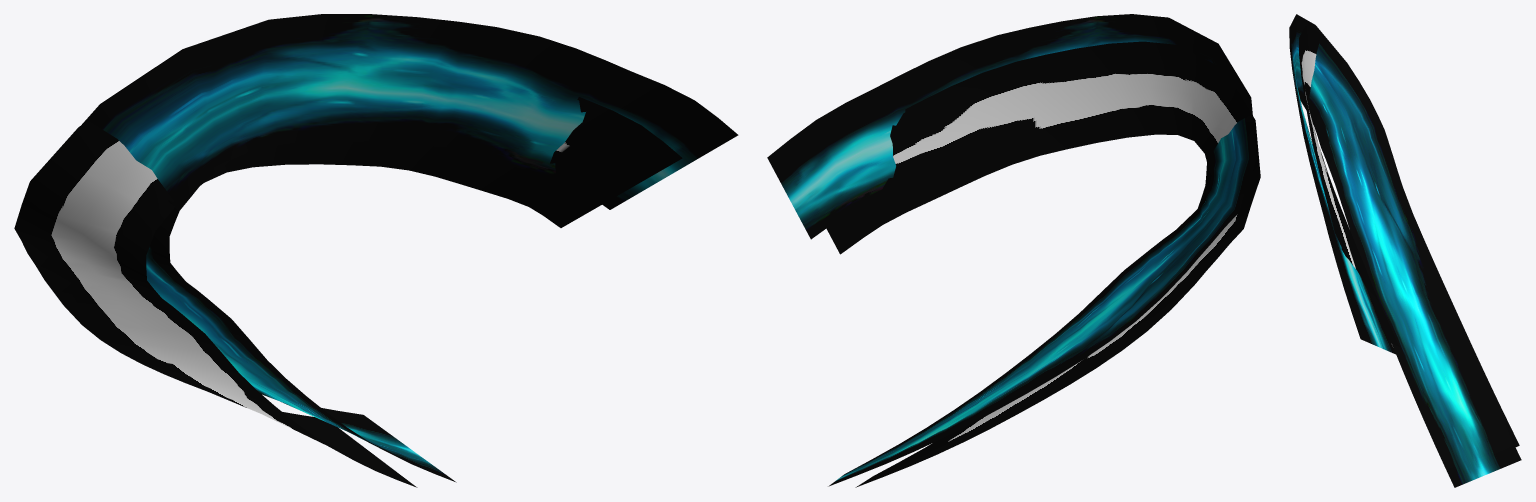
The model's file is effect_UI_trail_01.fbx.
The picture shows the model from 3 angles, left to right: view 1: azimuth 30°, elevation 25°; view 2: azimuth 150°, elevation 25°; view 3: azimuth 270°, elevation 25°; orthographic projection. The views are drawn at different scales.
Parts seen in each view (by area): view 1: trails_niuqu_001_add, trails_niuqu_001_alpha; view 2: trails_niuqu_001_alpha, trails_niuqu_001_add; view 3: trails_niuqu_001_add, trails_niuqu_001_alpha.
Part boxes in pixels (box(x1,y1,x2,y2)): trails_niuqu_001_add: box(82, 14, 738, 482); trails_niuqu_001_alpha: box(14, 97, 682, 487); trails_niuqu_001_alpha: box(826, 41, 1260, 487); trails_niuqu_001_add: box(767, 14, 1256, 486); trails_niuqu_001_add: box(1289, 14, 1521, 487); trails_niuqu_001_alpha: box(1299, 25, 1519, 447).
Bounding box in the file's own units: 1.69 × 1.46 × 0.8362.
